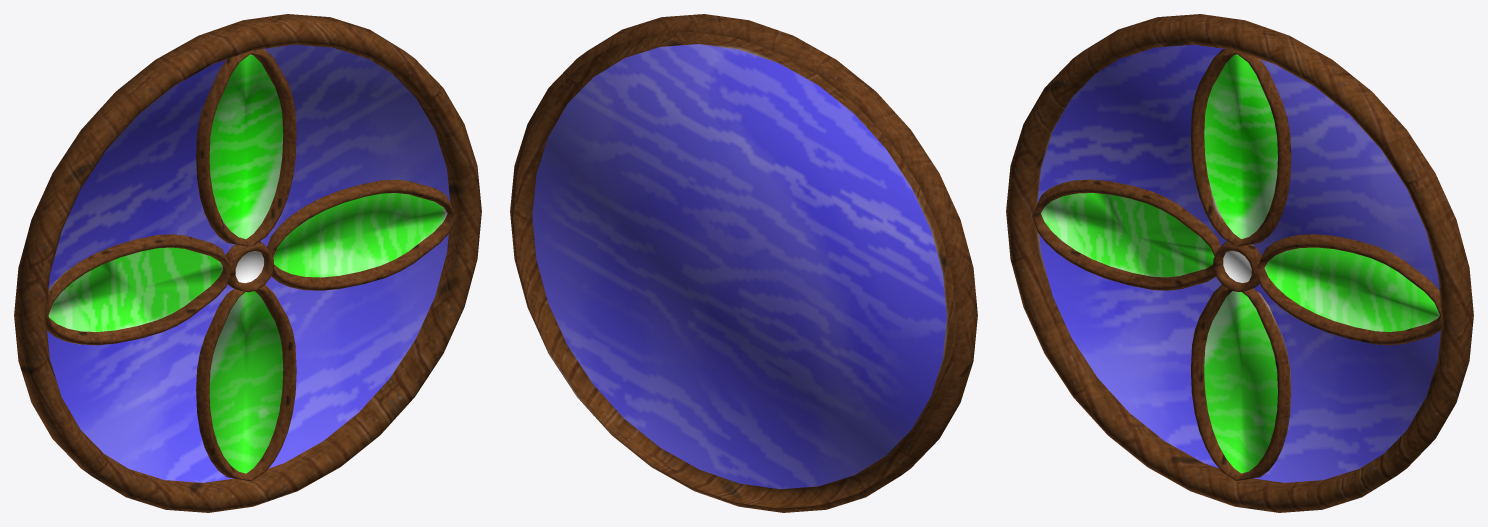
Rendered from Janela redonda.fbx.
3 renders of one model, left to right at view 1: azimuth 30°, elevation 25°; view 2: azimuth 150°, elevation 25°; view 3: azimuth 330°, elevation 25°, orthographic.
Visible parts, largest first — view 1: Janela Redonda; view 2: Janela Redonda; view 3: Janela Redonda.
Boxes of the visible parts, x1,y1,x2,y2 form: Janela Redonda: (14, 14, 481, 512); Janela Redonda: (510, 14, 977, 512); Janela Redonda: (1006, 14, 1473, 512).
Size of the model in its own units: 277 by 277 by 18.89.
1 material, 1 textured.
